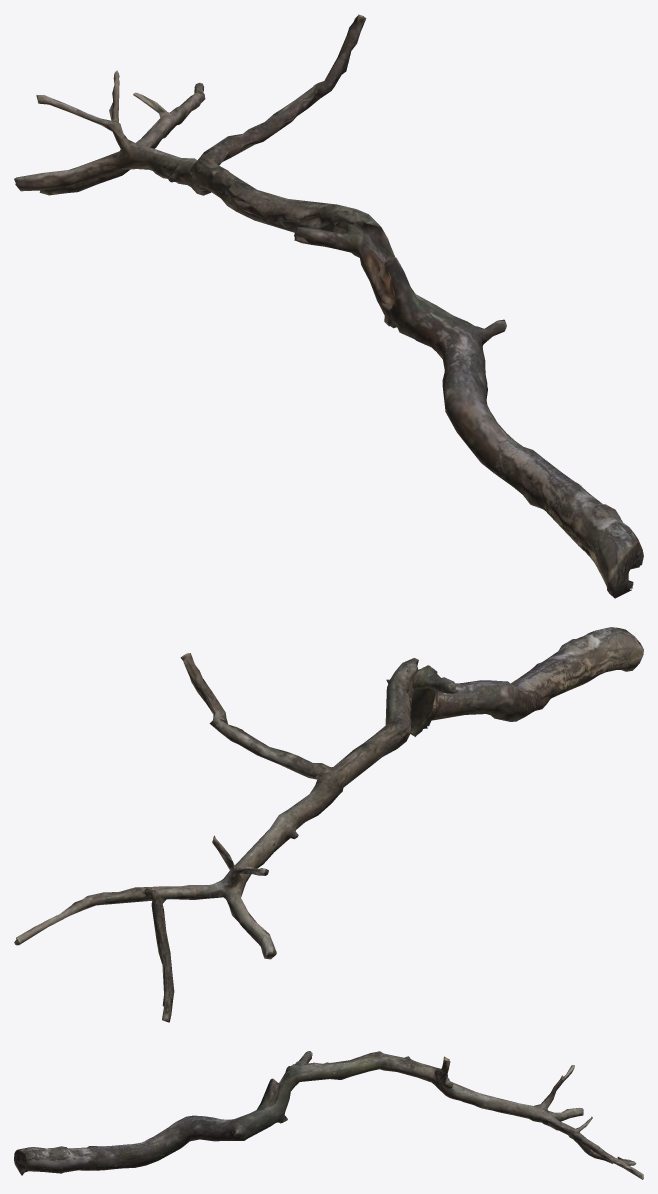
The model's file is dead_branch_1.glb.
The picture shows the model from 3 angles, top to bottom: view 1: azimuth 30°, elevation 25°; view 2: azimuth 150°, elevation 25°; view 3: azimuth 270°, elevation 25°; orthographic projection. The views are drawn at different scales.
Parts seen in each view (by area): view 1: SCENERY_dead_branch_1; view 2: SCENERY_dead_branch_1; view 3: SCENERY_dead_branch_1.
Boxes of the visible parts, x1,y1,x2,y2 form: SCENERY_dead_branch_1: (14, 14, 643, 598); SCENERY_dead_branch_1: (14, 627, 643, 1022); SCENERY_dead_branch_1: (14, 1051, 643, 1179).
Size of the model in its own units: 0.3237 by 0.3403 by 1.3.
1 material, 1 textured.
